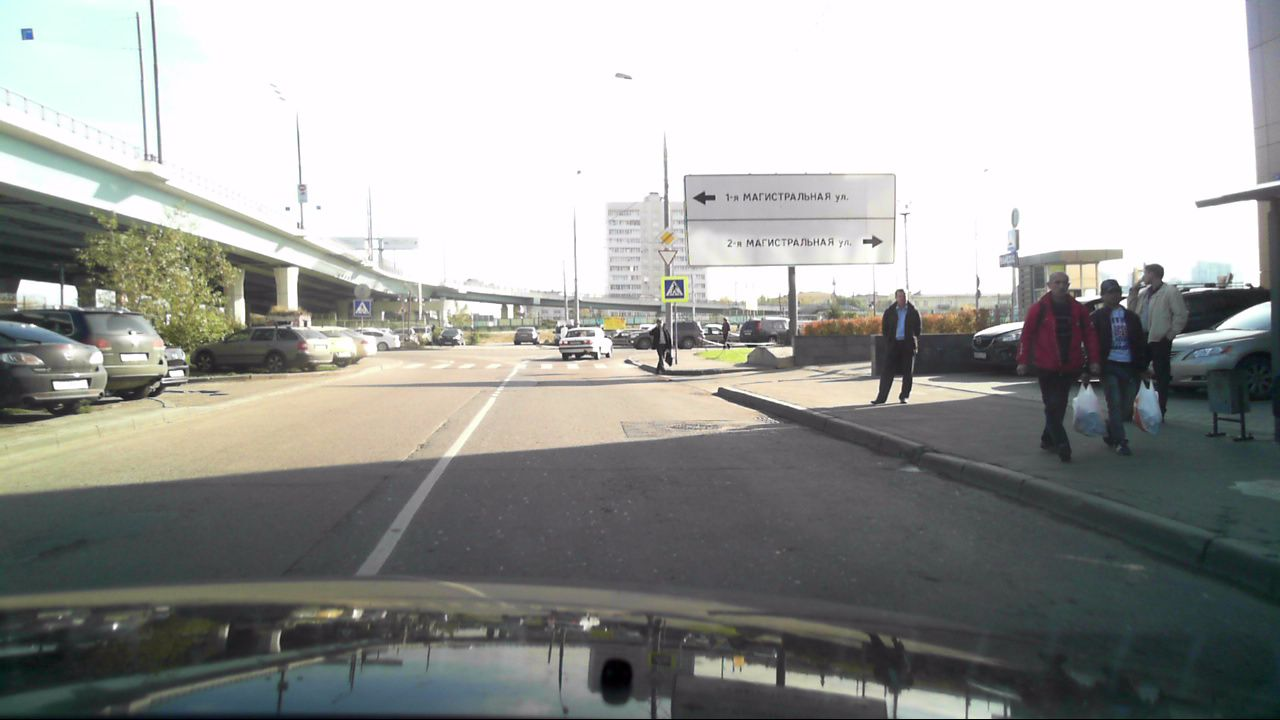main road: (657, 227, 678, 249)
